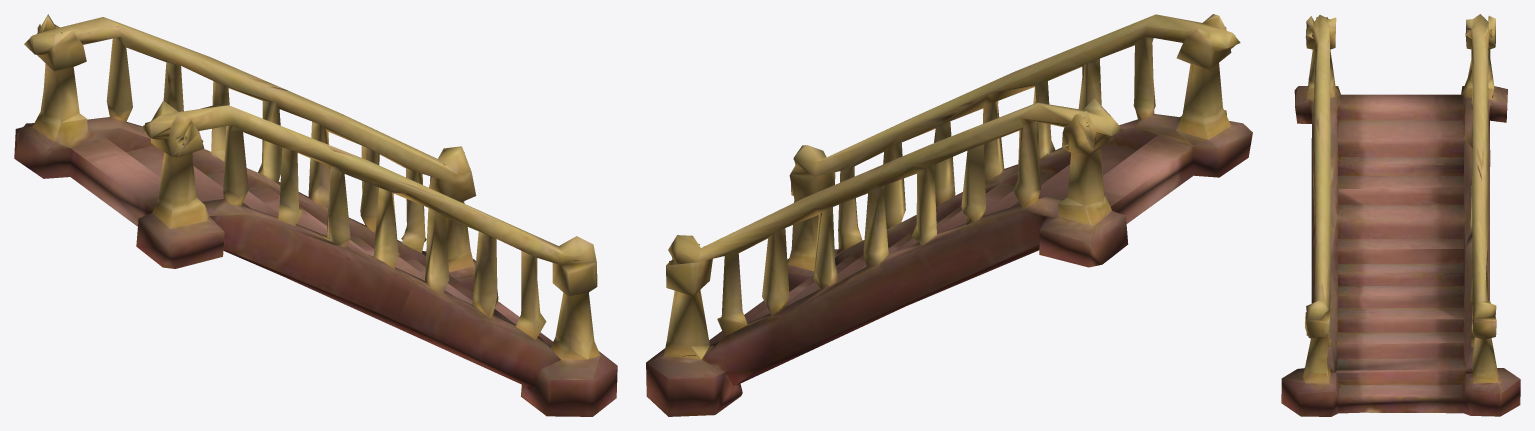
File: lg-clockwork-stairs.glb
3 renders of one model, left to right at view 1: azimuth 30°, elevation 25°; view 2: azimuth 150°, elevation 25°; view 3: azimuth 270°, elevation 25°, orthographic. The views are drawn at different scales.
Parts seen in each view (by area): view 1: geometry_0; view 2: geometry_0; view 3: geometry_0.
Part boxes in pixels (box(x1,y1,x2,y2)): geometry_0: box(14, 14, 617, 416); geometry_0: box(646, 14, 1252, 416); geometry_0: box(1281, 14, 1520, 416).
Bounding box in the file's own units: 1 × 0.8062 × 0.6718.
Materials: 1 (1 with a texture image).
